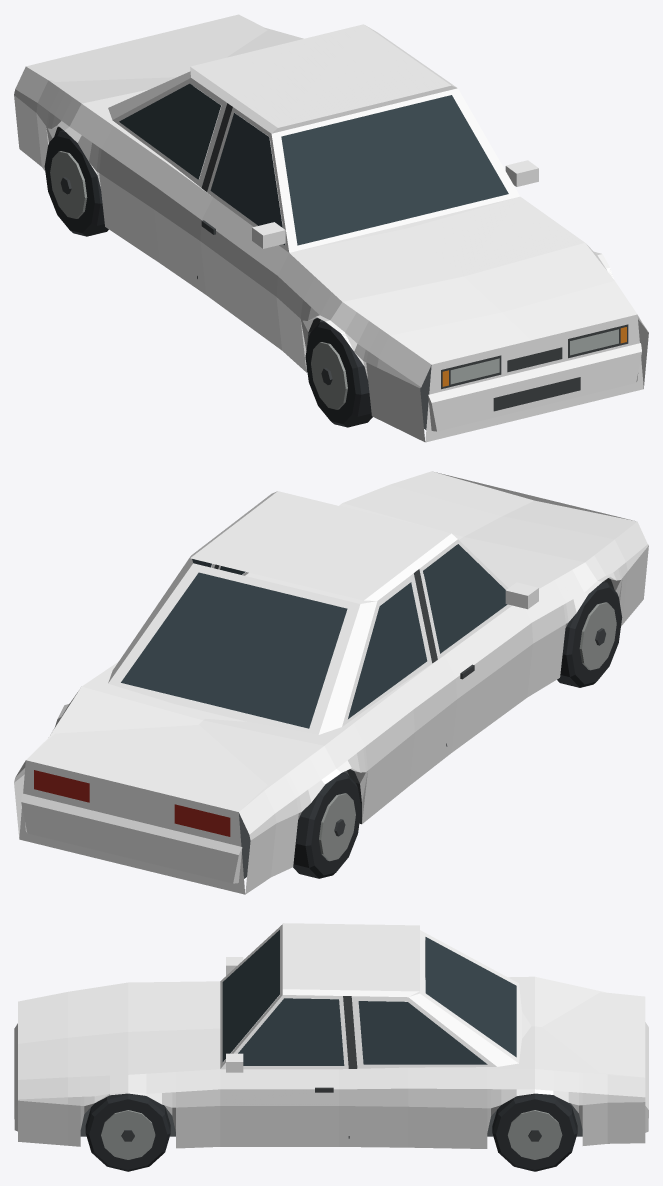
Rendered from hozuki_hiiragi.glb.
The picture shows the model from 3 angles, top to bottom: view 1: azimuth 30°, elevation 25°; view 2: azimuth 150°, elevation 25°; view 3: azimuth 270°, elevation 25°; orthographic projection. The views are drawn at different scales.
Parts seen in each view (by area): view 1: hozuki_hiiragi; view 2: hozuki_hiiragi; view 3: hozuki_hiiragi.
Part boxes in pixels (<box>): hozuki_hiiragi: <box>14,14,648,442</box>; hozuki_hiiragi: <box>14,471,648,894</box>; hozuki_hiiragi: <box>14,923,648,1171</box>.
Bounding box in the file's own units: 1.73 × 1.27 × 4.4.
8 materials, 1 textured.
